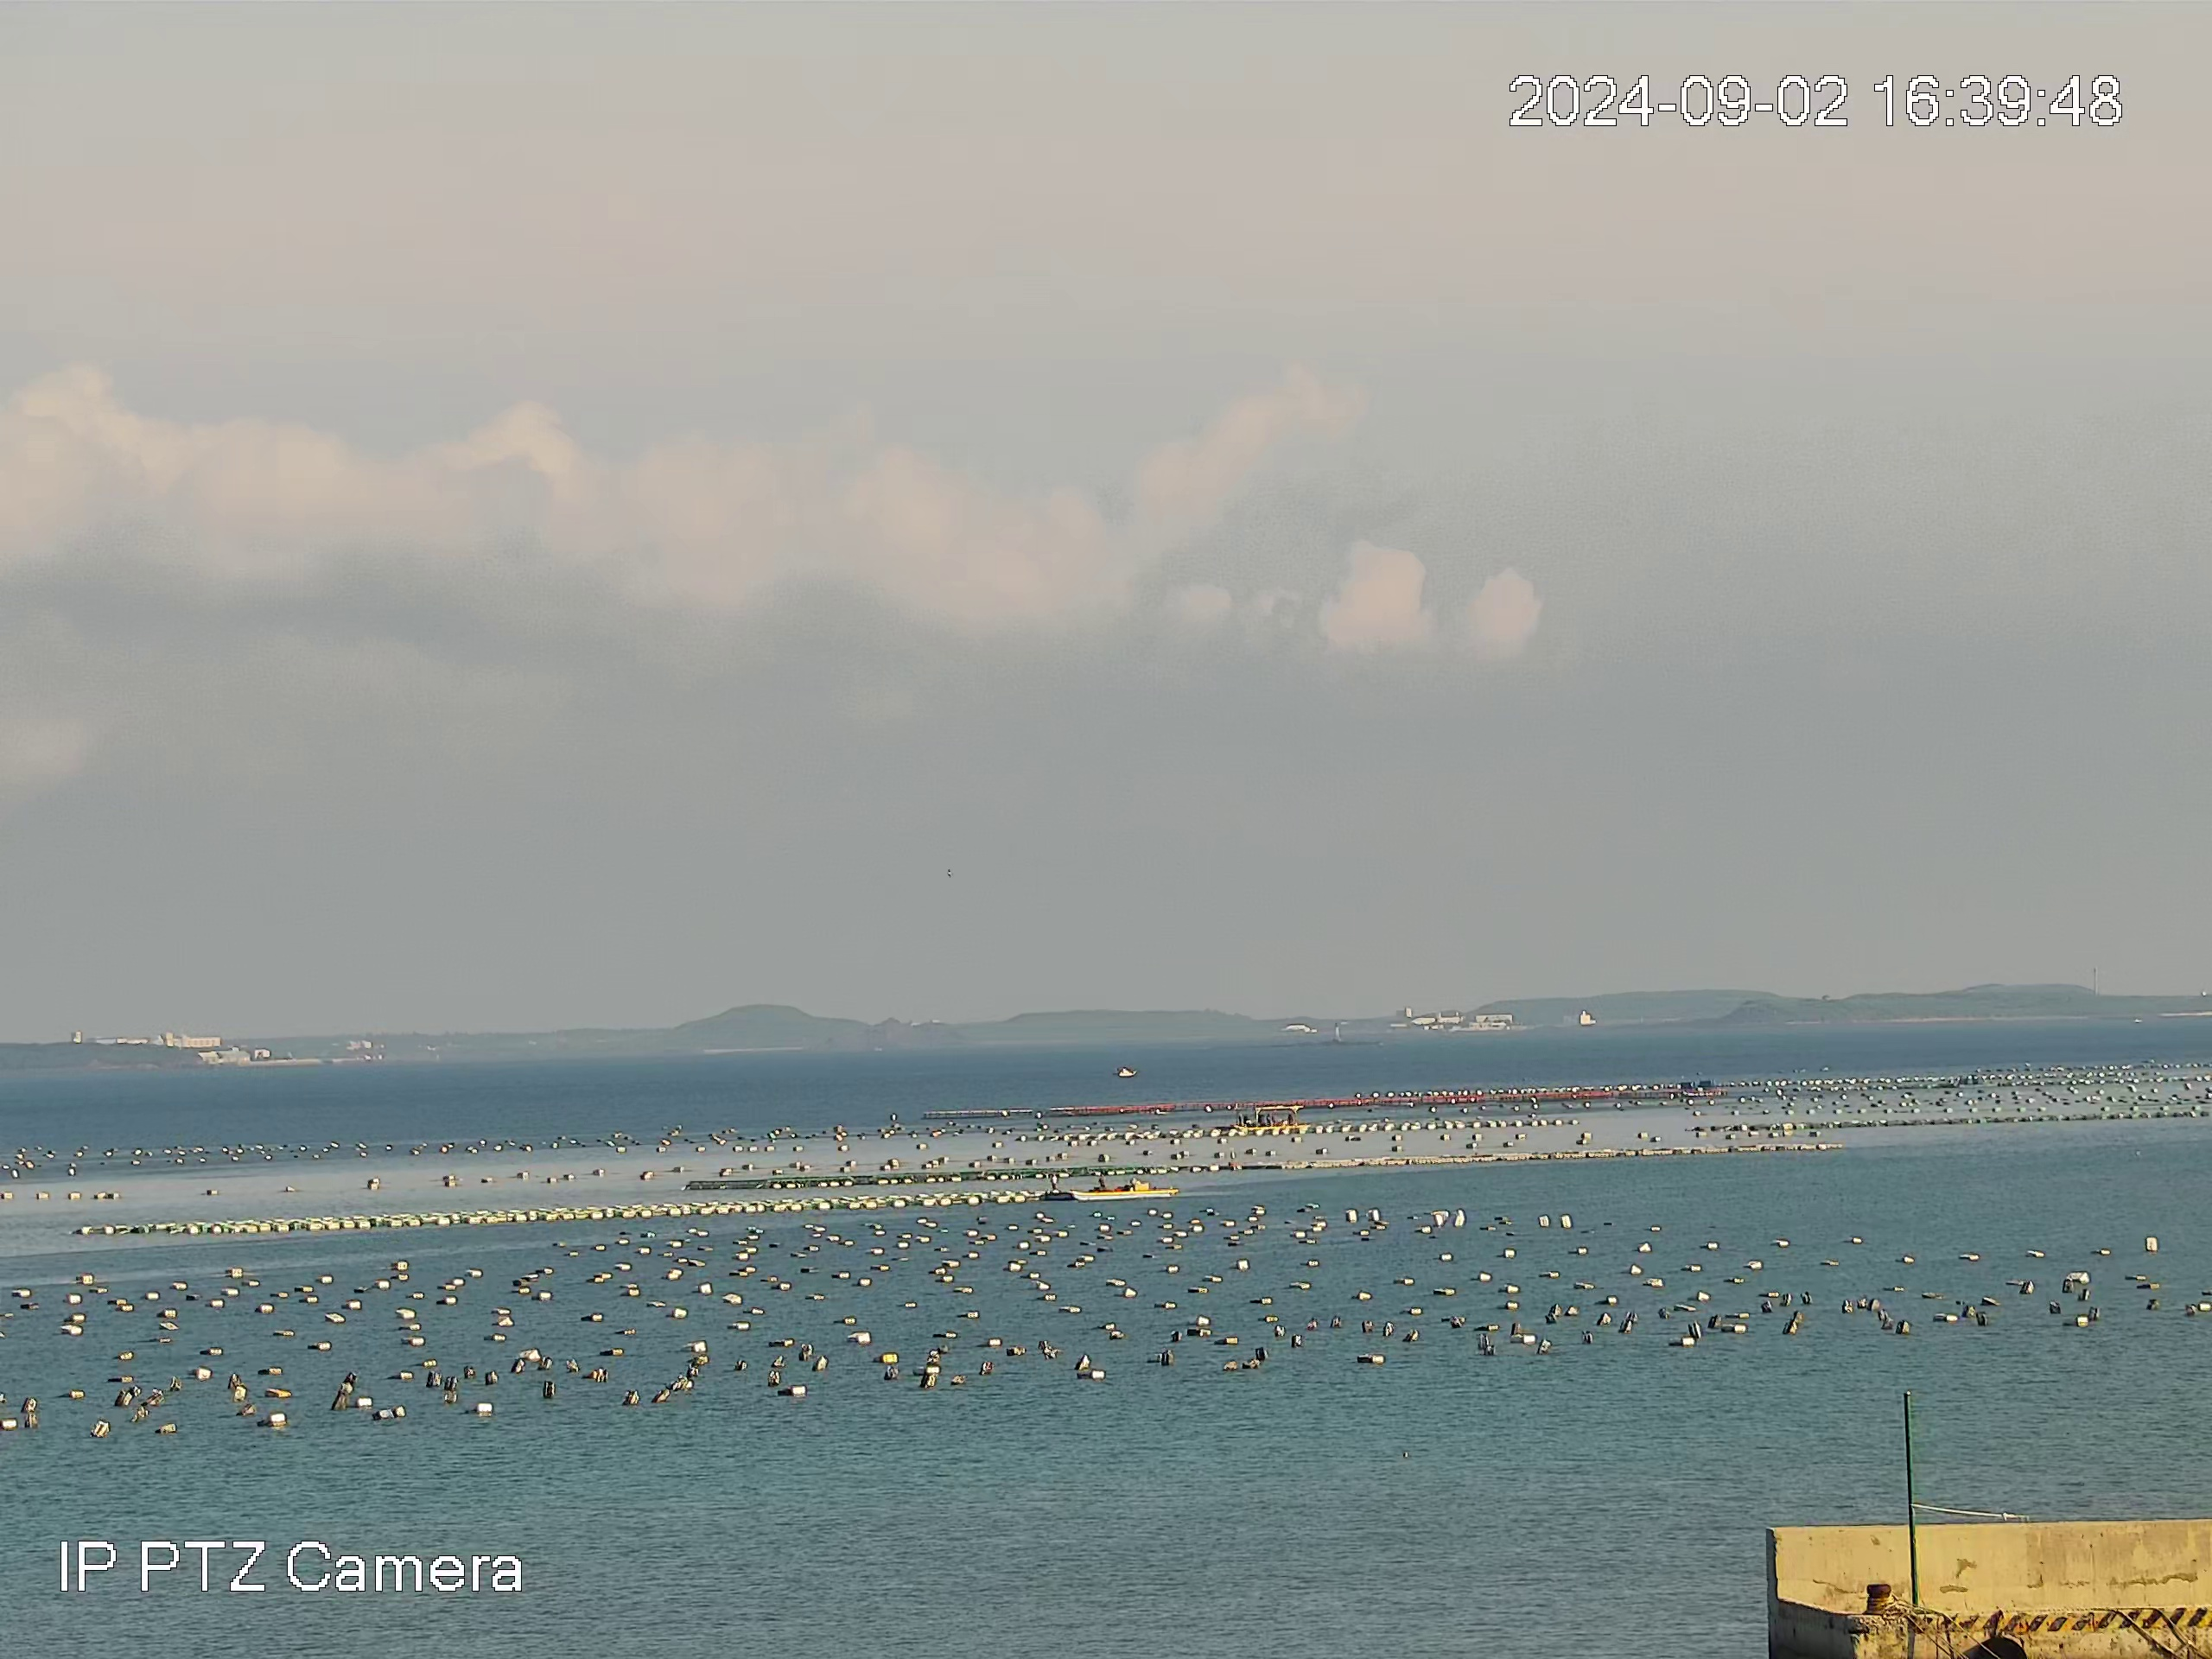boat: (1038, 1171, 1180, 1202), (1229, 1103, 1311, 1131), (1116, 1065, 1137, 1078)
